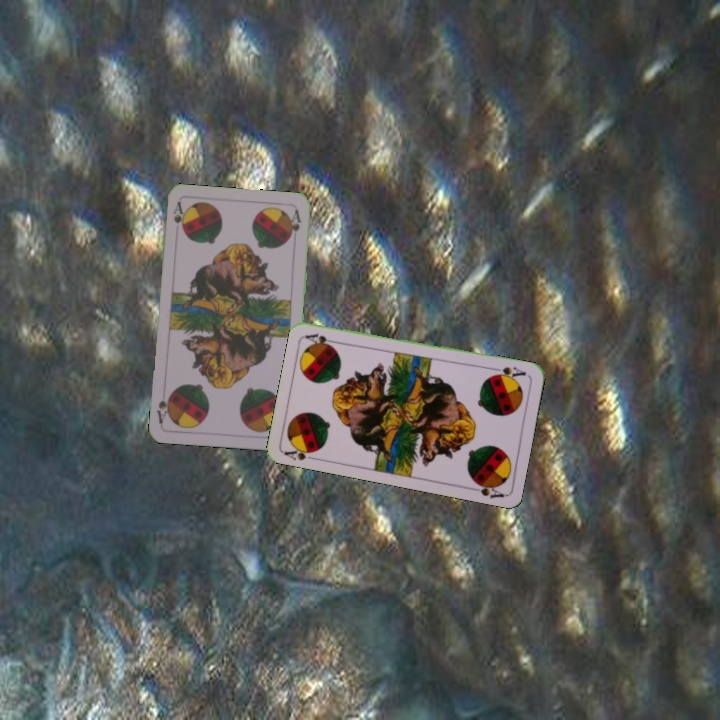SA: (280, 441, 322, 463), (488, 362, 529, 382), (169, 198, 187, 235)
